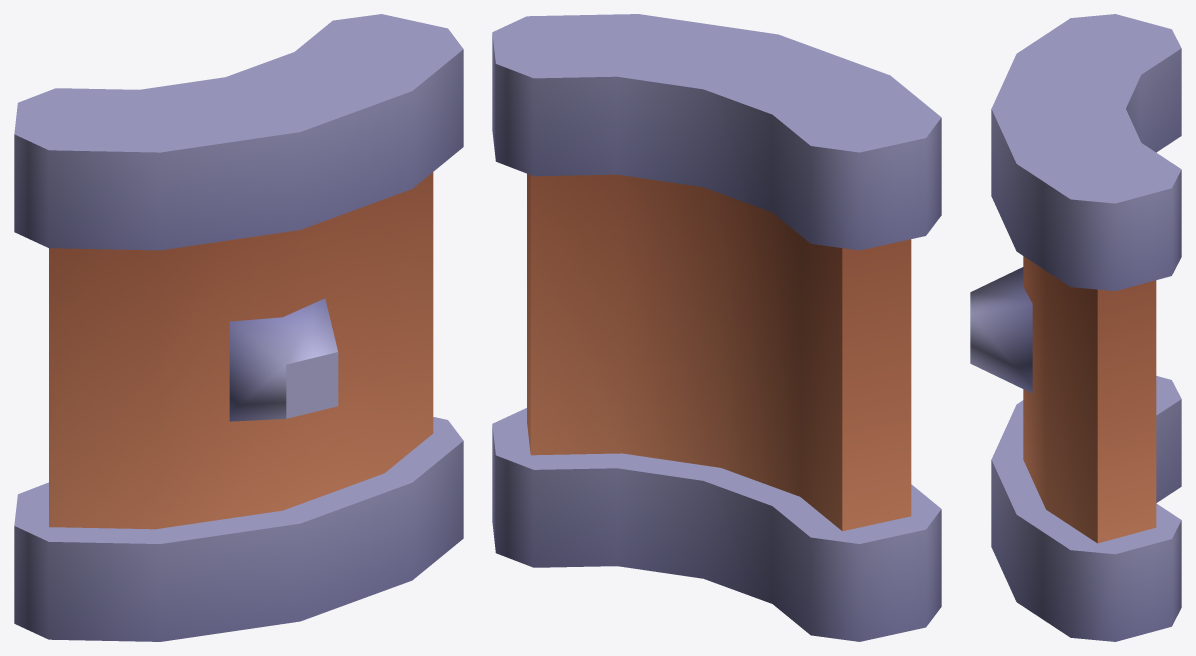
Rendered from shield-rectangle.obj.
3 views of the same model, side by side, from view 1: azimuth 30°, elevation 25°; view 2: azimuth 150°, elevation 25°; view 3: azimuth 270°, elevation 25° (orthographic). The views are drawn at different scales.
Visible parts, largest first — view 1: shield-rectangle; view 2: shield-rectangle; view 3: shield-rectangle.
Boxes of the visible parts, bbox=[...] form: shield-rectangle: bbox=[14, 14, 463, 641]; shield-rectangle: bbox=[492, 14, 941, 641]; shield-rectangle: bbox=[970, 14, 1181, 641].
Bounding box in the file's own units: 0.2759 × 0.2975 × 0.13.
1 material, 1 textured.
